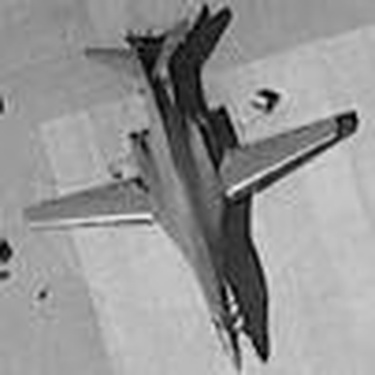airplane: (11, 1, 351, 372)
